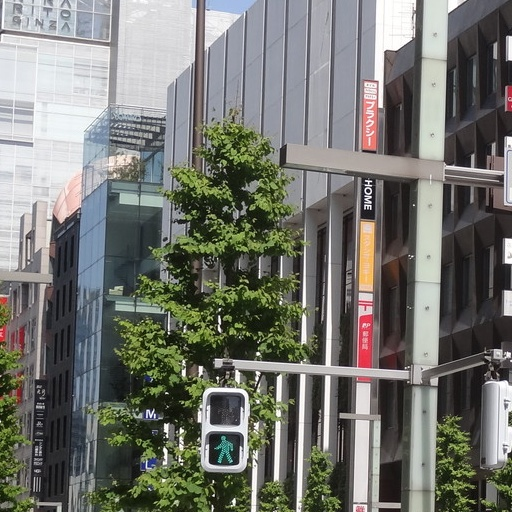Pedestrian_Signal_Blue: (200, 384, 247, 478)
